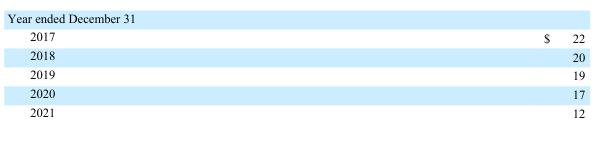table: (29, 29, 584, 120)
table column: (298, 29, 584, 120), (29, 29, 298, 120)
table row: (29, 46, 584, 65), (29, 65, 584, 84), (29, 84, 584, 103), (29, 29, 584, 46), (29, 103, 584, 120)
